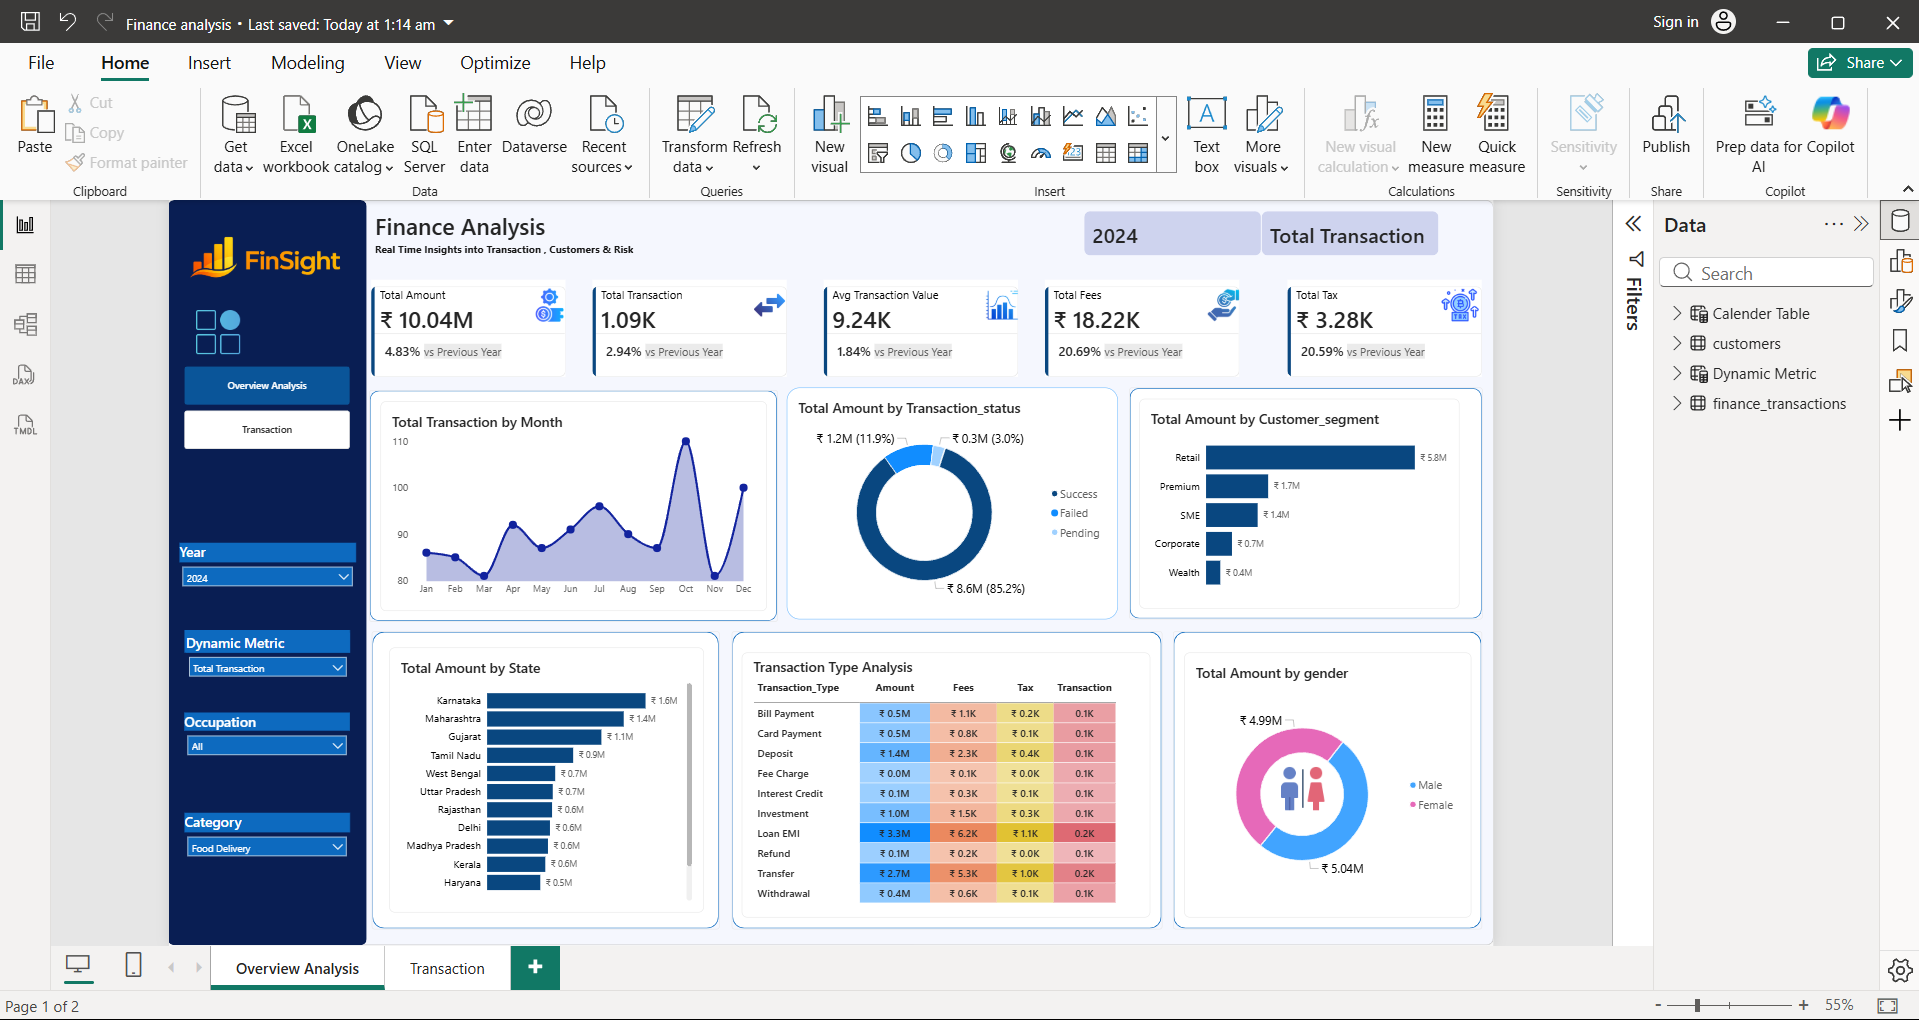

The dashboard page shown, as its layout file describes it:
{"tool":"powerbi","page":{"name":"Overview Analysis","canvas":[1920,1080],"ordinal":0},"visuals":[{"type":"shape","box":[896,272,480,336],"z":0},{"type":"shape","box":[888,288,480,312],"z":1000},{"type":"shape","box":[240,0,1680,1080],"z":2000},{"type":"shape","box":[0,0,288,1080],"z":3000},{"type":"image","box":[24,24,240,120],"z":4000},{"type":"cardVisual","fields":{"Data":["finance_transactions.Total Amount"]},"box":[288,96,288,168],"z":4000,"group":"g1"},{"type":"cardVisual","fields":{"Data":["finance_transactions.Dashboard Title"]},"box":[288,0,432,96],"z":5000},{"type":"group","id":"g1","title":"Group 1","box":[288,96,1536,168],"z":6000},{"type":"cardVisual","fields":{"Data":["finance_transactions.Total Transaction"]},"box":[600,96,288,168],"z":6000,"group":"g1"},{"type":"cardVisual","fields":{"Data":["finance_transactions.Avg Transaction Value"]},"box":[912,96,288,168],"z":7000,"group":"g1"},{"type":"shape","box":[292.1,275.6,592,336],"z":7000},{"type":"cardVisual","fields":{"Data":["finance_transactions.Total Fees"]},"box":[1224,96,288,168],"z":8000,"group":"g1"},{"type":"areaChart","fields":{"Category":["Calender Table.Month"],"Y":["finance_transactions.Total Transaction"]},"box":[308.1,291.6,560,304],"z":8000},{"type":"cardVisual","fields":{"Data":["finance_transactions.Selected Dynamic Measure"]},"box":[1584,16,256,64],"z":9000},{"type":"cardVisual","fields":{"Data":["finance_transactions.Total Tax"]},"box":[1536,96,288,168],"z":9000,"group":"g1"},{"type":"cardVisual","fields":{"Data":["finance_transactions.Selected Year"]},"box":[1328,16,256,64],"z":10000},{"type":"image","box":[528,96,48,72],"z":10000,"group":"g1"},{"type":"image","box":[840,96,48,72],"z":11000,"group":"g1"},{"type":"shape","box":[1396.1,277.2,480,336],"z":11000},{"type":"image","box":[1464,96,48,72],"z":12000,"group":"g1"},{"type":"donutChart","fields":{"Category":["finance_transactions.transaction_status"],"Y":["finance_transactions.Total Amount"]},"box":[912,288,448,304],"z":12000},{"type":"image","box":[1152,96,48,72],"z":13000,"group":"g1"},{"type":"shape","box":[295.9,624,504,432],"z":13000},{"type":"image","box":[1776,96,48,72],"z":14000,"group":"g1"},{"type":"barChart","fields":{"Category":["customers.customer_segment"],"Y":["finance_transactions.Total Amount"]},"box":[1412.1,293.2,448,304],"z":14000},{"type":"barChart","fields":{"Category":["customers.state"],"Y":["finance_transactions.Total Amount"]},"box":[319.9,648,456,384],"z":15000},{"type":"shape","box":[816,624,624,432],"z":16000},{"type":"shape","box":[1464,624,432,432],"z":17000},{"type":"tableEx","title":"Transaction Type Analysis","fields":{"Values":["finance_transactions.transaction_type","finance_transactions.Total Amount","finance_transactions.Total Fees","finance_transactions.Total Tax","finance_transactions.Total Transaction"]},"box":[832,656,592,384],"z":18000},{"type":"donutChart","fields":{"Category":["customers.gender"],"Y":["finance_transactions.Total Amount"]},"box":[1488,648,384,384],"z":19000},{"type":"image","box":[1608,816,72,72],"z":20000},{"type":"slicer","title":"Year","fields":{"Values":["Calender Table.Year"]},"box":[24,408,240,96],"z":21000},{"type":"slicer","title":"Dynamic Metric","fields":{"Values":["Dynamic Metric.Dynamic Metric"]},"box":[24,528,240,96],"z":22000},{"type":"slicer","title":"Occupation","fields":{"Values":["customers.occupation"]},"box":[24,648,240,96],"z":23000},{"type":"slicer","title":"Category","fields":{"Values":["finance_transactions.merchant_category"]},"box":[24,792,240,96],"z":24000},{"type":"pageNavigator","box":[24,240,240,120],"z":25000}]}

Visuals, with their boxes on the page's 1920x1080 design canvas (x1, y1, x2, y2). These are canvas units, not pixel positions in the 1919x1020 screenshot, which may show the page scaled, cropped or inside an application window:
shape: bbox=(896, 272, 1376, 608)
shape: bbox=(888, 288, 1368, 600)
shape: bbox=(240, 0, 1920, 1080)
shape: bbox=(0, 0, 288, 1080)
image: bbox=(24, 24, 264, 144)
cardVisual - finance_transactions.Total Amount: bbox=(288, 96, 576, 264)
cardVisual - finance_transactions.Dashboard Title: bbox=(288, 0, 720, 96)
"Group 1" group: bbox=(288, 96, 1824, 264)
cardVisual - finance_transactions.Total Transaction: bbox=(600, 96, 888, 264)
cardVisual - finance_transactions.Avg Transaction Value: bbox=(912, 96, 1200, 264)
shape: bbox=(292, 276, 884, 612)
cardVisual - finance_transactions.Total Fees: bbox=(1224, 96, 1512, 264)
areaChart - Calender Table.Month x finance_transactions.Total Transaction: bbox=(308, 292, 868, 596)
cardVisual - finance_transactions.Selected Dynamic Measure: bbox=(1584, 16, 1840, 80)
cardVisual - finance_transactions.Total Tax: bbox=(1536, 96, 1824, 264)
cardVisual - finance_transactions.Selected Year: bbox=(1328, 16, 1584, 80)
image: bbox=(528, 96, 576, 168)
image: bbox=(840, 96, 888, 168)
shape: bbox=(1396, 277, 1876, 613)
image: bbox=(1464, 96, 1512, 168)
donutChart - finance_transactions.transaction_status x finance_transactions.Total Amount: bbox=(912, 288, 1360, 592)
image: bbox=(1152, 96, 1200, 168)
shape: bbox=(296, 624, 800, 1056)
image: bbox=(1776, 96, 1824, 168)
barChart - customers.customer_segment x finance_transactions.Total Amount: bbox=(1412, 293, 1860, 597)
barChart - customers.state x finance_transactions.Total Amount: bbox=(320, 648, 776, 1032)
shape: bbox=(816, 624, 1440, 1056)
shape: bbox=(1464, 624, 1896, 1056)
"Transaction Type Analysis" tableEx: bbox=(832, 656, 1424, 1040)
donutChart - customers.gender x finance_transactions.Total Amount: bbox=(1488, 648, 1872, 1032)
image: bbox=(1608, 816, 1680, 888)
"Year" slicer: bbox=(24, 408, 264, 504)
"Dynamic Metric" slicer: bbox=(24, 528, 264, 624)
"Occupation" slicer: bbox=(24, 648, 264, 744)
"Category" slicer: bbox=(24, 792, 264, 888)
pageNavigator: bbox=(24, 240, 264, 360)
